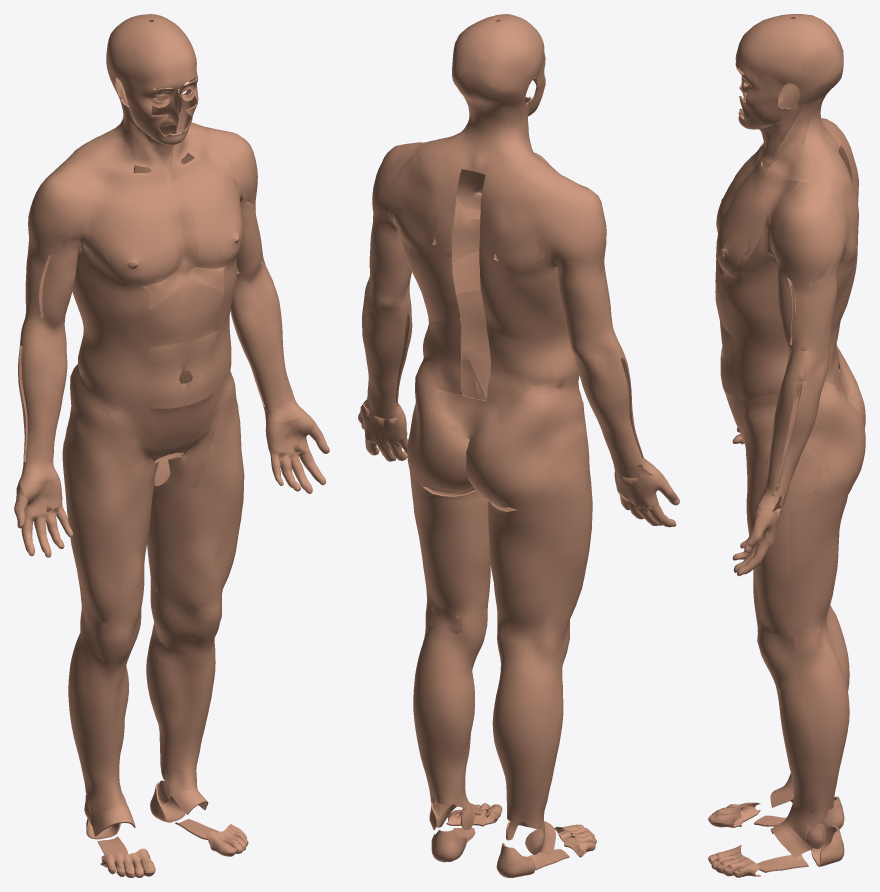
File: skin.glb
3 views of the same model, side by side, from view 1: azimuth 30°, elevation 25°; view 2: azimuth 150°, elevation 25°; view 3: azimuth 270°, elevation 25° (orthographic).
Parts seen in each view (by area): view 1: skin_thigh_r, skin_thigh_l, skin_thorax_r, skin_abdomen_r, skin_thorax_l, skin_leg_l, skin_head_r, skin_leg_r, skin_abdomen_l, skin_forearm_r, skin_forearm_l, skin_shoulder_r (+18 smaller); view 2: skin_thigh_r, skin_thorax_r, skin_pelvis_r, skin_thorax_l, skin_thigh_l, skin_leg_r, skin_leg_l, skin_pelvis_l, skin_head_r, skin_abdomen_l, skin_abdomen_r, skin_arm_r (+18 smaller); view 3: skin_thigh_l, skin_thorax_l, skin_head_l, skin_leg_l, skin_pelvis_l, skin_abdomen_l, skin_shoulder_l, skin_neck_l, skin_arm_l, skin_knee_l, skin_forearm_l, skin_foot_l (+11 smaller).
Part boxes in pixels (box(x1,y1,x2,y2)): skin_thigh_r: box(63, 366, 158, 624); skin_thigh_l: box(147, 367, 244, 603); skin_thorax_r: box(72, 138, 185, 318); skin_abdomen_r: box(77, 278, 188, 459); skin_thorax_l: box(133, 125, 242, 291); skin_leg_l: box(146, 627, 215, 770); skin_head_r: box(106, 15, 179, 144); skin_leg_r: box(68, 652, 128, 789); skin_abdomen_l: box(173, 277, 234, 453); skin_forearm_r: box(18, 344, 67, 467); skin_forearm_l: box(230, 288, 295, 410); skin_shoulder_r: box(28, 156, 91, 255); skin_thigh_r: box(487, 374, 592, 632); skin_thorax_r: box(479, 142, 564, 345); skin_pelvis_r: box(466, 382, 588, 509); skin_thorax_l: box(383, 154, 485, 321); skin_thigh_l: box(408, 349, 490, 615); skin_leg_r: box(492, 680, 563, 822); skin_leg_l: box(413, 659, 474, 805); skin_pelvis_l: box(407, 350, 490, 492); skin_head_r: box(472, 15, 545, 112); skin_abdomen_l: box(423, 250, 497, 394); skin_abdomen_r: box(486, 321, 579, 406); skin_arm_r: box(548, 232, 613, 339); skin_thigh_l: box(743, 388, 847, 635); skin_thorax_l: box(716, 145, 858, 335); skin_head_l: box(735, 18, 843, 128); skin_leg_l: box(776, 668, 849, 813); skin_pelvis_l: box(732, 378, 865, 501); skin_abdomen_l: box(715, 271, 840, 428); skin_shoulder_l: box(769, 182, 840, 282); skin_neck_l: box(747, 96, 841, 183); skin_arm_l: box(777, 233, 845, 350); skin_knee_l: box(757, 617, 841, 691); skin_forearm_l: box(765, 375, 825, 496); skin_foot_l: box(708, 820, 844, 877).
Size of the model in its own units: 0.6798 by 1.71 by 0.294.
